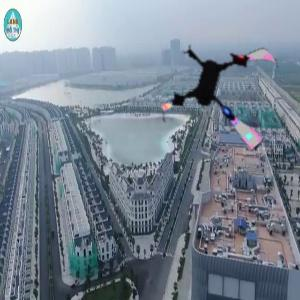drone: (158, 29, 292, 163)
